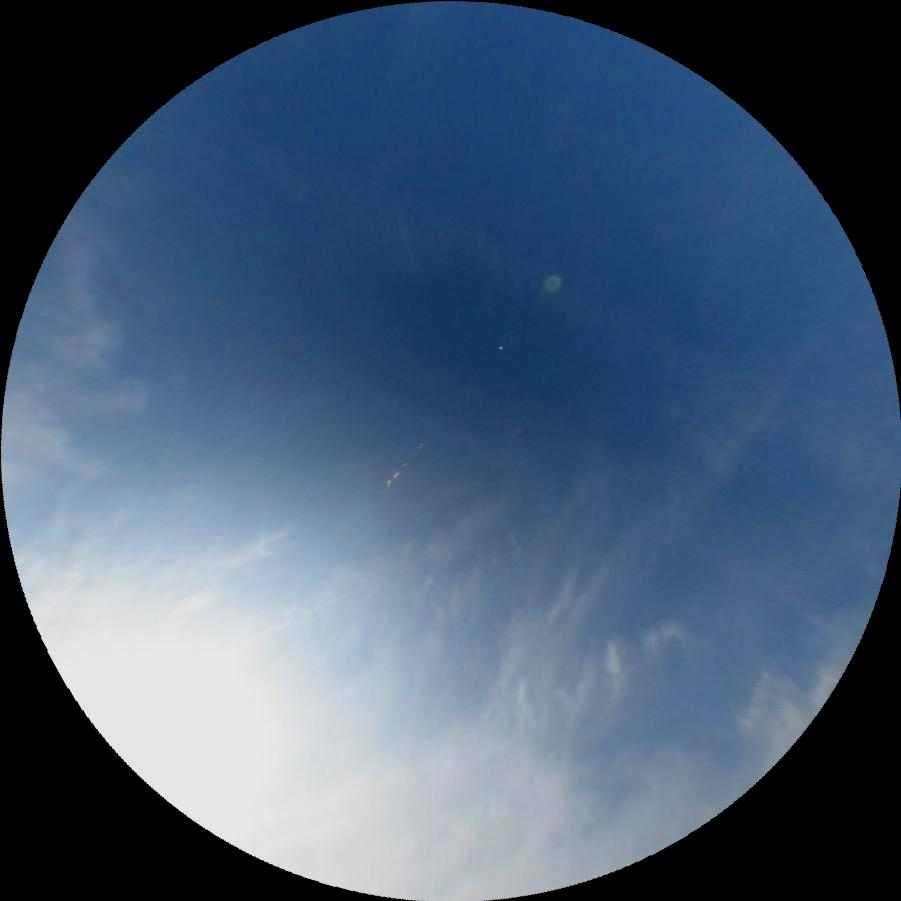parasite: (243, 135, 901, 506), (228, 592, 341, 654)
sun: (31, 554, 366, 901)
